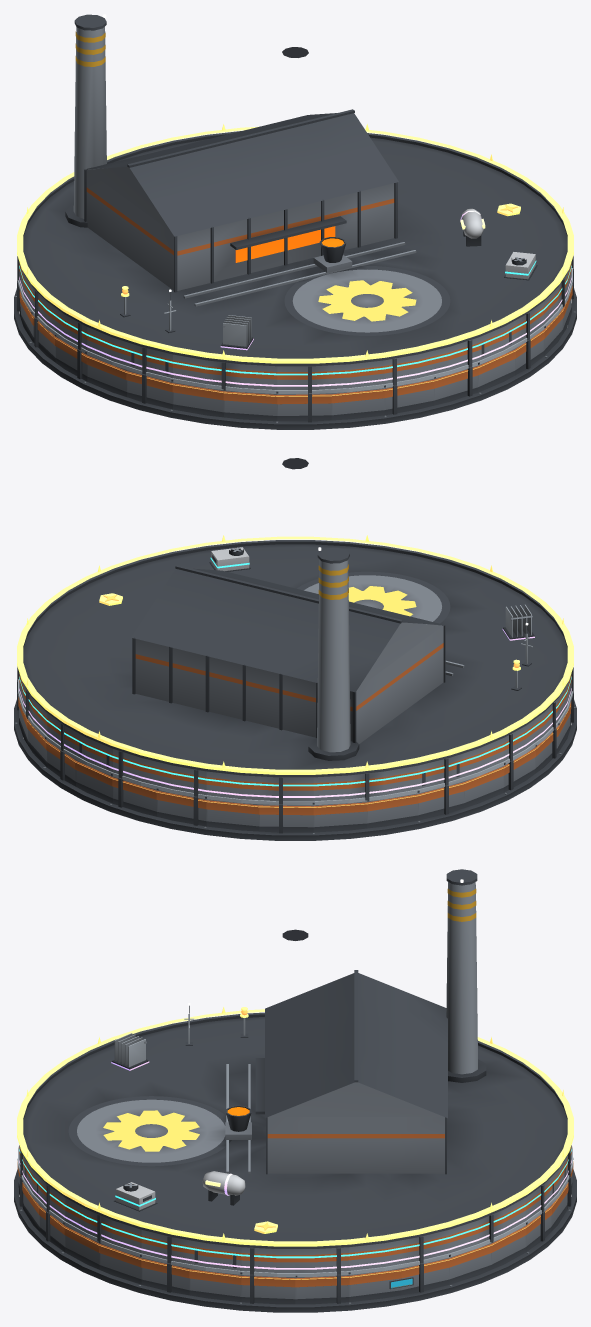
The model's file is steel_mill_xl.glb.
3 renders of one model, top to bottom at view 1: azimuth 30°, elevation 25°; view 2: azimuth 150°, elevation 25°; view 3: azimuth 270°, elevation 25°, orthographic.
Visible parts, largest first — view 1: Roof, Base, L4, Wall_21, Wall_20, Wall_22, Wall_19, Wall_23, Wall_18, Wall_24, Upper_20, Upper_21 (+17 smaller); view 2: Roof, Base, Wall_10, Wall_11, Wall_09, Wall_12, Wall_08, Wall_13, Wall_07, Upper_10, Upper_11, Upper_09 (+18 smaller); view 3: Roof, Base, L4, Wall_00, Wall_31, Wall_30, Wall_01, Wall_29, Wall_02, Upper_00, Upper_31, Wall_28 (+16 smaller).
Boxes of the visible parts, box(x1,y1,x2,y2) form: Roof: box(23, 14, 567, 366); Base: box(14, 288, 576, 429); L4: box(220, 208, 485, 350); Wall_21: box(277, 393, 331, 422); Wall_20: box(223, 389, 277, 421); Wall_22: box(331, 388, 384, 420); Wall_19: box(172, 382, 223, 417); Wall_23: box(384, 378, 434, 415); Wall_18: box(126, 370, 172, 409); Wall_24: box(434, 365, 478, 405); Upper_20: box(223, 362, 277, 389); Upper_21: box(277, 365, 331, 393); Roof: box(23, 458, 567, 777); Base: box(14, 700, 576, 840); Wall_10: box(259, 804, 313, 833); Wall_11: box(313, 801, 367, 832); Wall_09: box(206, 799, 259, 831); Wall_12: box(367, 793, 418, 828); Wall_08: box(156, 788, 206, 826); Wall_13: box(418, 781, 464, 820); Wall_07: box(112, 776, 156, 816); Upper_10: box(259, 776, 313, 804); Upper_11: box(313, 773, 367, 801); Upper_09: box(206, 771, 259, 800); Roof: box(23, 869, 567, 1248); Base: box(14, 1169, 576, 1312); L4: box(111, 1033, 245, 1205); Wall_00: box(295, 1274, 349, 1304); Wall_31: box(241, 1274, 295, 1304); Wall_30: box(189, 1268, 241, 1302); Wall_01: box(349, 1268, 401, 1302); Wall_29: box(141, 1258, 189, 1295); Wall_02: box(401, 1258, 449, 1295); Upper_00: box(295, 1247, 349, 1274); Upper_31: box(241, 1247, 295, 1274); Wall_28: box(99, 1242, 141, 1284).
Size of the model in its own units: 23.15 by 11.89 by 23.15.
